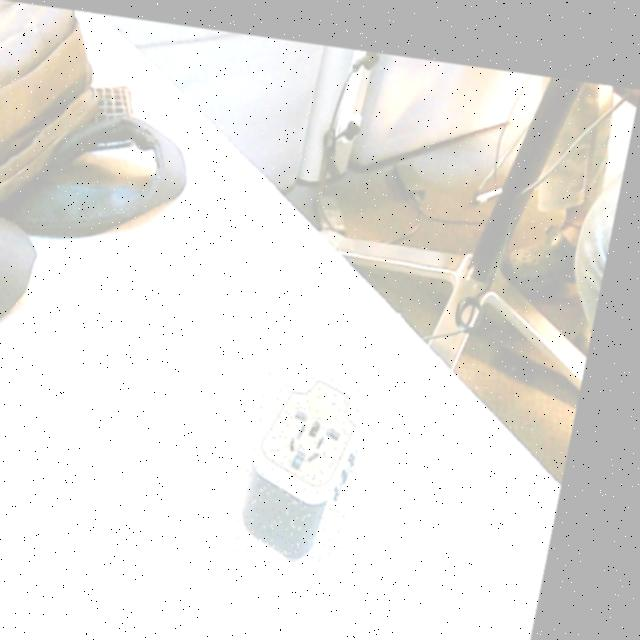adapter: (252, 358, 385, 554)
